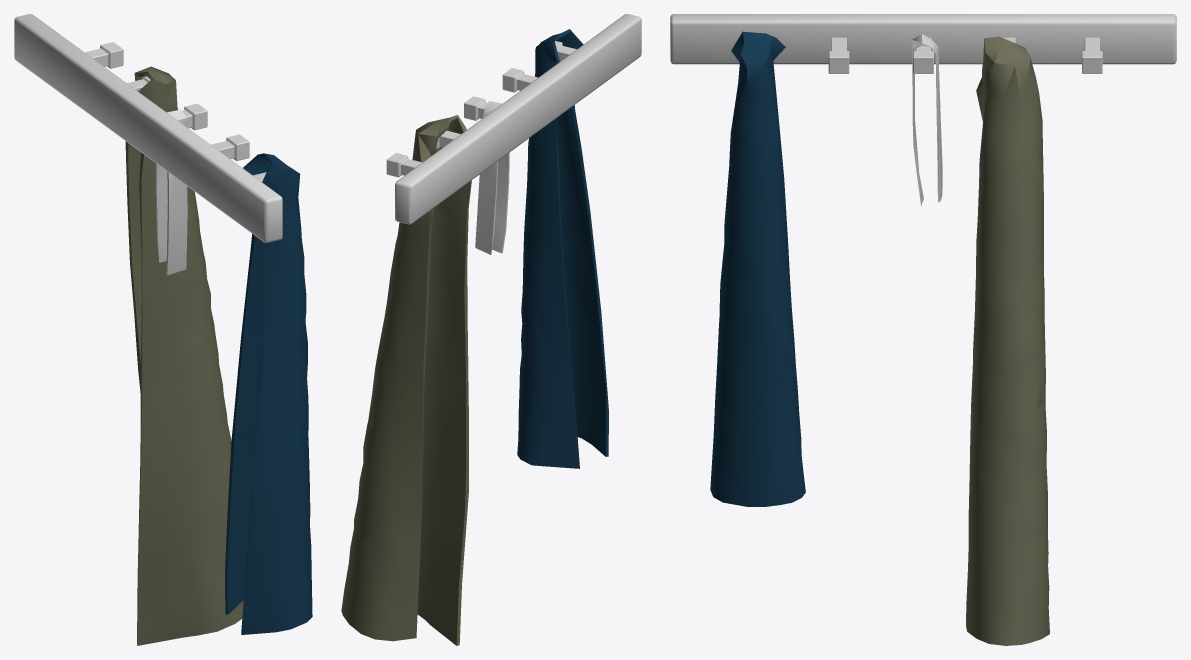
Rendered from Patere.fbx.
3 renders of one model, left to right at view 1: azimuth 30°, elevation 25°; view 2: azimuth 150°, elevation 25°; view 3: azimuth 270°, elevation 25°, orthographic. The views are drawn at different scales.
Visible parts, largest first — view 1: transform5; view 2: transform5; view 3: transform5.
Boxes of the visible parts, x1=… form: transform5: x1=14, y1=14, x2=312, y2=645; transform5: x1=341, y1=14, x2=641, y2=645; transform5: x1=670, y1=14, x2=1176, y2=645.
Bounding box in the file's own units: 115 × 400 × 318.
